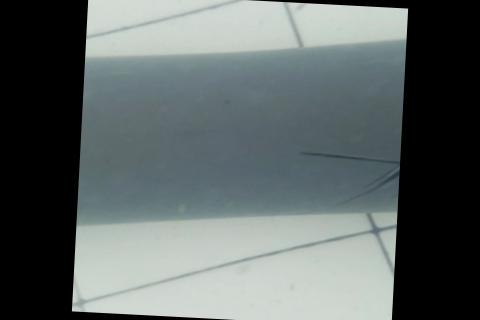keretakan: (294, 148, 400, 209)
